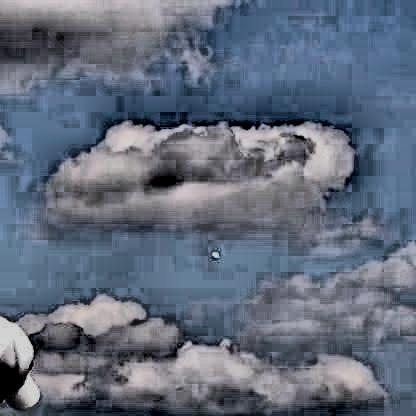golfball: (206, 249, 215, 258)
